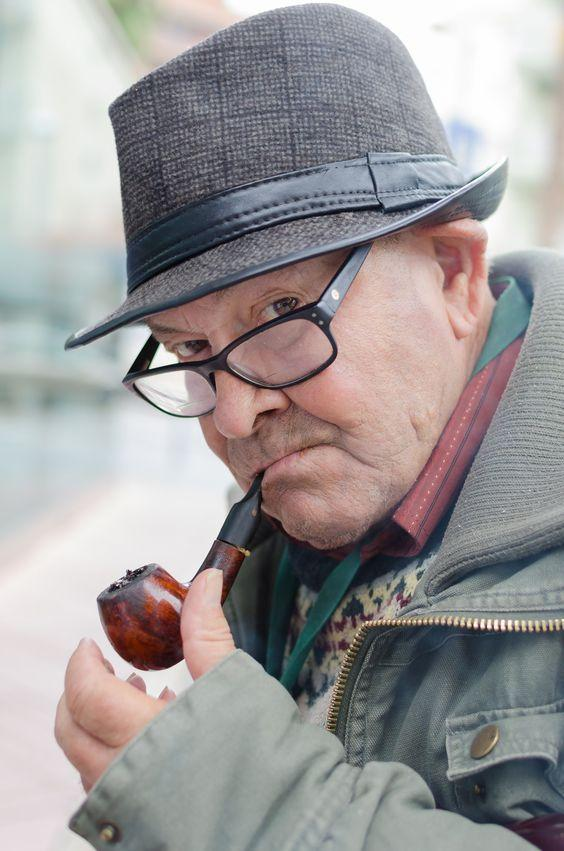trubka: (99, 469, 265, 672)
